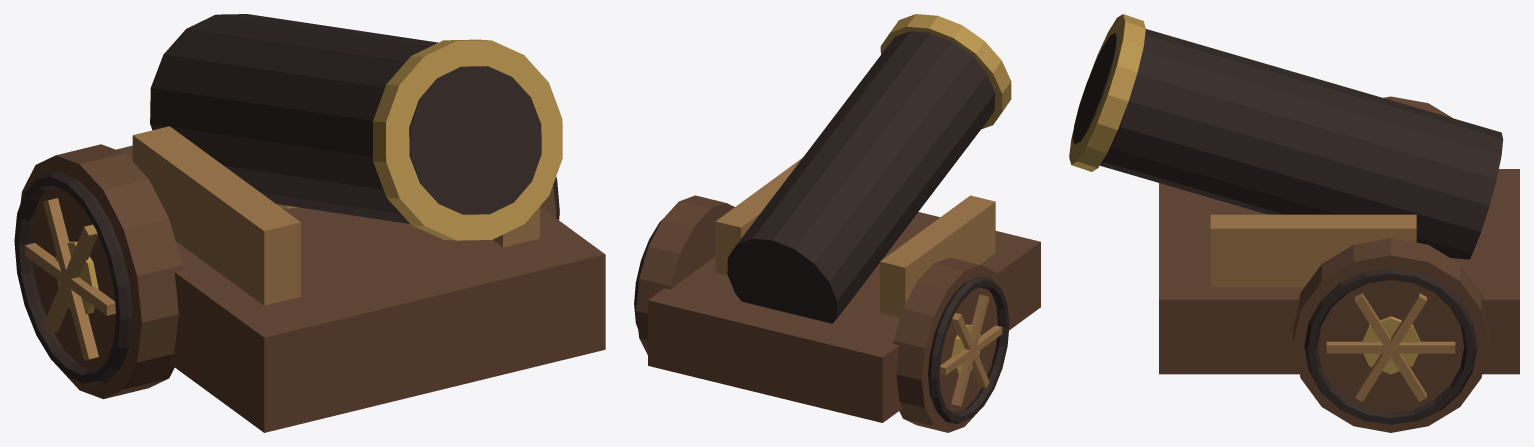
The model's file is PirateCove_Cannon_Showcase.glb.
3 views of the same model, side by side, from view 1: azimuth 30°, elevation 25°; view 2: azimuth 150°, elevation 25°; view 3: azimuth 270°, elevation 25° (orthographic). The views are drawn at different scales.
Parts seen in each view (by area): view 1: PirateCove_Cannon_Showcase; view 2: PirateCove_Cannon_Showcase; view 3: PirateCove_Cannon_Showcase.
Part boxes in pixels (x1,y1,x2,y2): PirateCove_Cannon_Showcase: [14, 14, 605, 432]; PirateCove_Cannon_Showcase: [634, 14, 1040, 432]; PirateCove_Cannon_Showcase: [1069, 14, 1519, 432].
Size of the model in its own units: 1.55 by 1.42 by 1.75.
